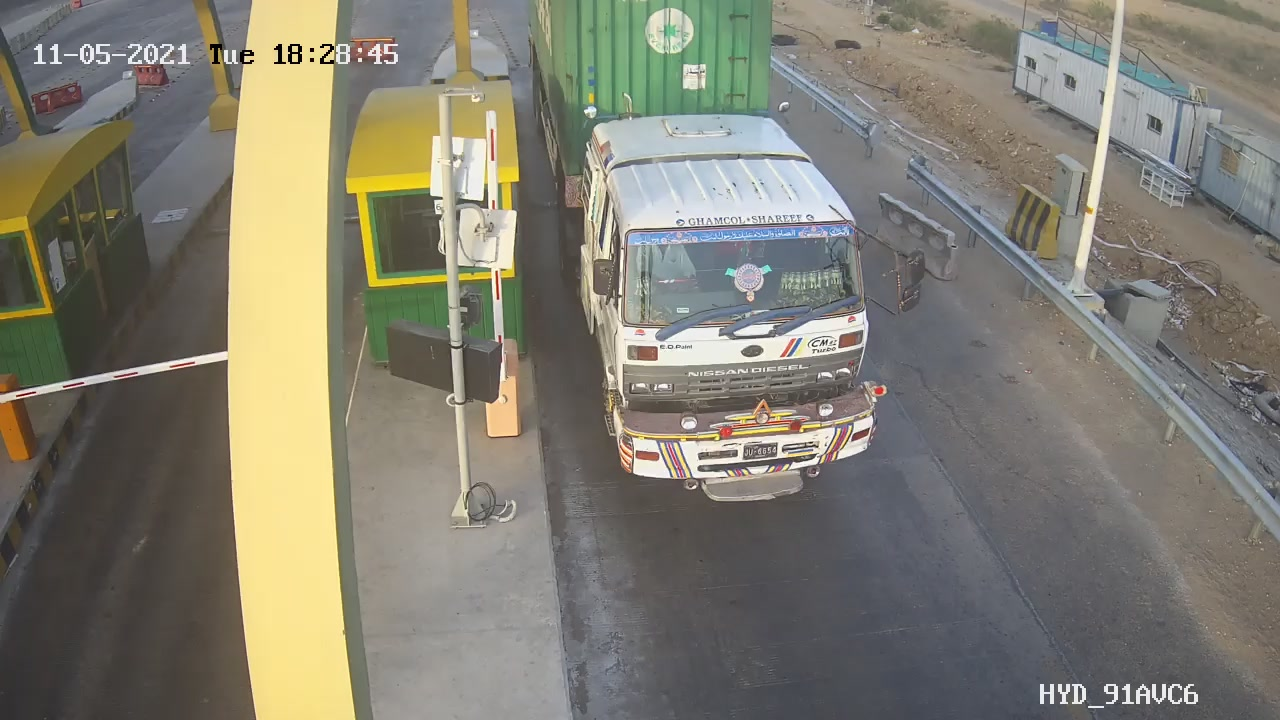F6: (547, 1, 899, 507)
